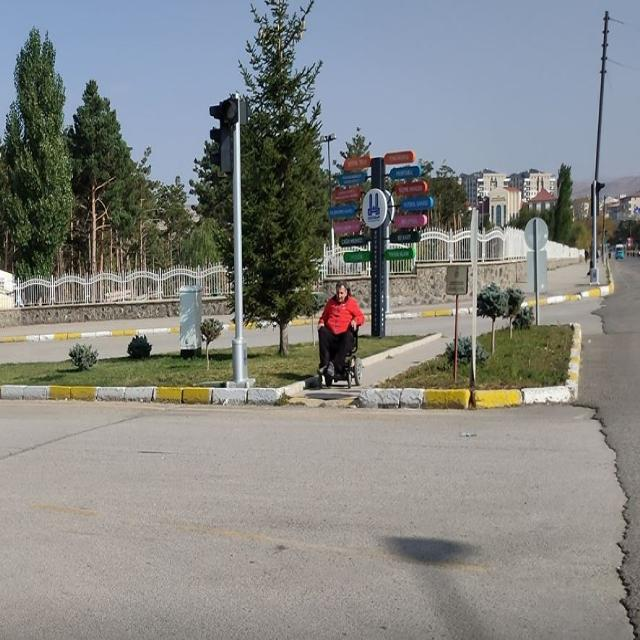wheelchairs: (314, 324, 364, 392)
